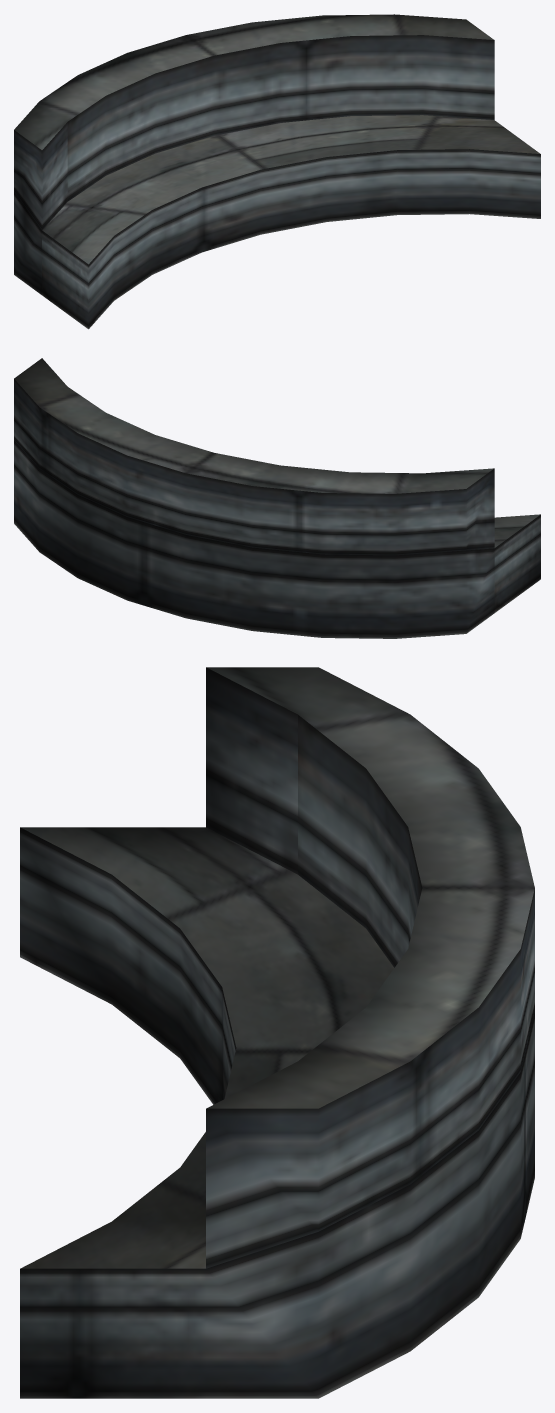
Rendered from cadeira2.fbx.
The picture shows the model from 3 angles, top to bottom: view 1: azimuth 30°, elevation 25°; view 2: azimuth 150°, elevation 25°; view 3: azimuth 270°, elevation 25°; orthographic projection. The views are drawn at different scales.
Visible parts, largest first — view 1: Cylinder; view 2: Cylinder; view 3: Cylinder.
Boxes of the visible parts, <box> form: Cylinder: <box>14,14,540,329</box>; Cylinder: <box>14,358,540,638</box>; Cylinder: <box>20,667,534,1398</box>.
Size of the model in its own units: 2.83 by 0.8665 by 1.39.
